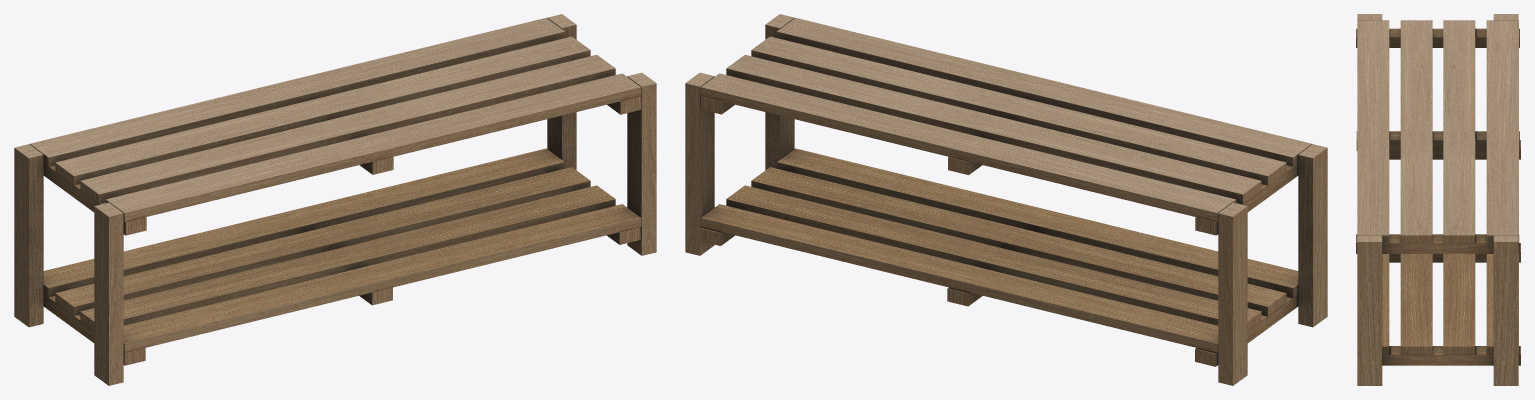
Rendered from Sun_0053_Shoe_rack.fbx.
3 renders of one model, left to right at view 1: azimuth 30°, elevation 25°; view 2: azimuth 150°, elevation 25°; view 3: azimuth 270°, elevation 25°, orthographic. The views are drawn at different scales.
Parts seen in each view (by area): view 1: Sun_0053_Shoe_rack; view 2: Sun_0053_Shoe_rack; view 3: Sun_0053_Shoe_rack.
Part boxes in pixels (left/top/right/bottom): Sun_0053_Shoe_rack: left=14, top=14, right=656, bottom=385; Sun_0053_Shoe_rack: left=685, top=14, right=1327, bottom=385; Sun_0053_Shoe_rack: left=1356, top=14, right=1520, bottom=385.
Size of the model in its own units: 112 by 33.02 by 34.26.
